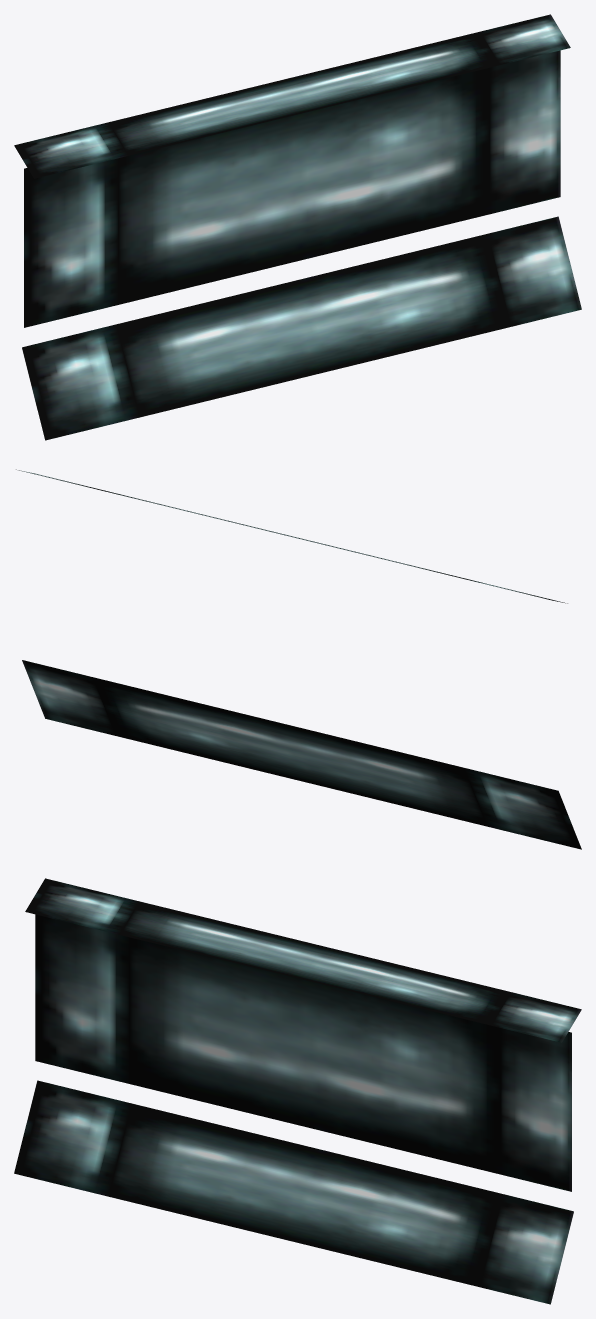
Rendered from Geländer1_Hoch_2Locators_919.glb.
3 renders of one model, top to bottom at view 1: azimuth 30°, elevation 25°; view 2: azimuth 150°, elevation 25°; view 3: azimuth 330°, elevation 25°, orthographic.
Parts seen in each view (by area): view 1: pPlaneShape1, pPlaneShape3, pPlaneShape2; view 2: pPlaneShape3, pPlaneShape2; view 3: pPlaneShape1, pPlaneShape3, pPlaneShape2.
Part boxes in pixels (left/top/right/bottom): pPlaneShape1: left=24, top=50, right=560, bottom=327; pPlaneShape3: left=22, top=216, right=581, bottom=440; pPlaneShape2: left=14, top=14, right=570, bottom=178; pPlaneShape3: left=22, top=660, right=581, bottom=849; pPlaneShape2: left=16, top=469, right=567, bottom=603; pPlaneShape1: left=35, top=914, right=571, bottom=1191; pPlaneShape3: left=14, top=1080, right=573, bottom=1304; pPlaneShape2: left=25, top=878, right=581, bottom=1042.
Bounding box in the file's own units: 0.2501 × 0.1213 × 0.0252.
Materials: 3 (3 with a texture image).
